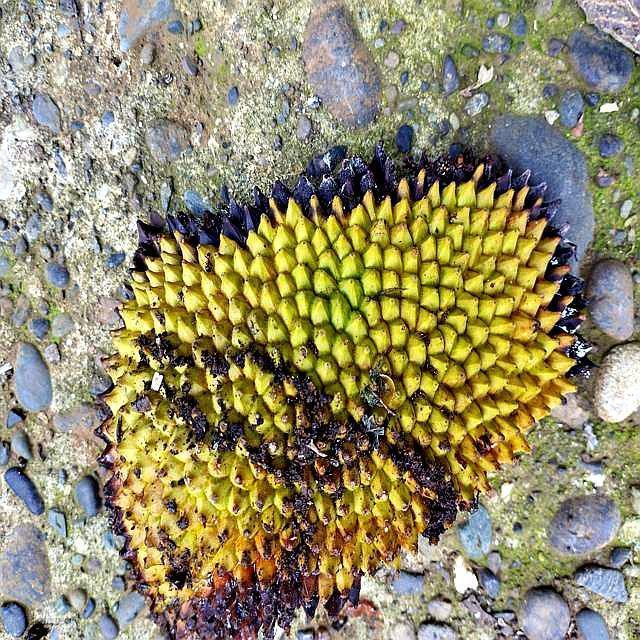Biodegradable: (94, 140, 586, 638)
